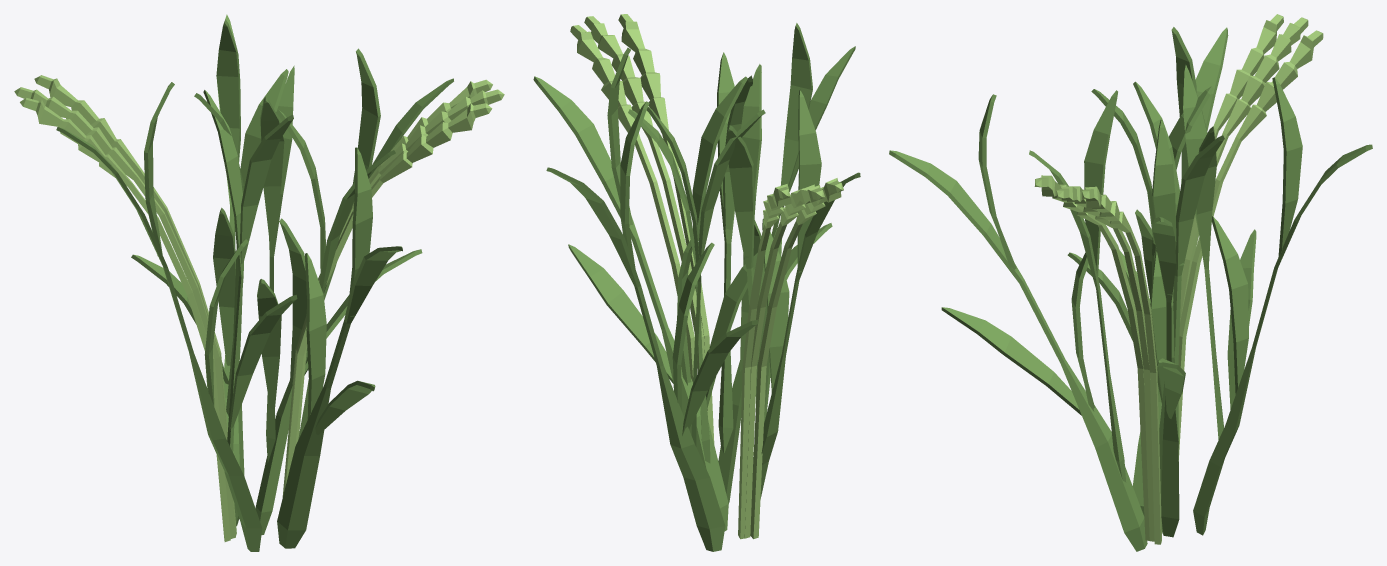
Rendered from Rice_4.glb.
3 renders of one model, left to right at view 1: azimuth 30°, elevation 25°; view 2: azimuth 150°, elevation 25°; view 3: azimuth 270°, elevation 25°, orthographic.
Parts seen in each view (by area): view 1: Rice_4_Plane.023; view 2: Rice_4_Plane.023; view 3: Rice_4_Plane.023.
Part boxes in pixels (left/top/right/bottom): Rice_4_Plane.023: left=14, top=14, right=504, bottom=551; Rice_4_Plane.023: left=533, top=14, right=860, bottom=551; Rice_4_Plane.023: left=889, top=14, right=1372, bottom=551.
Bounding box in the file's own units: 0.7786 × 0.9535 × 0.8808.
